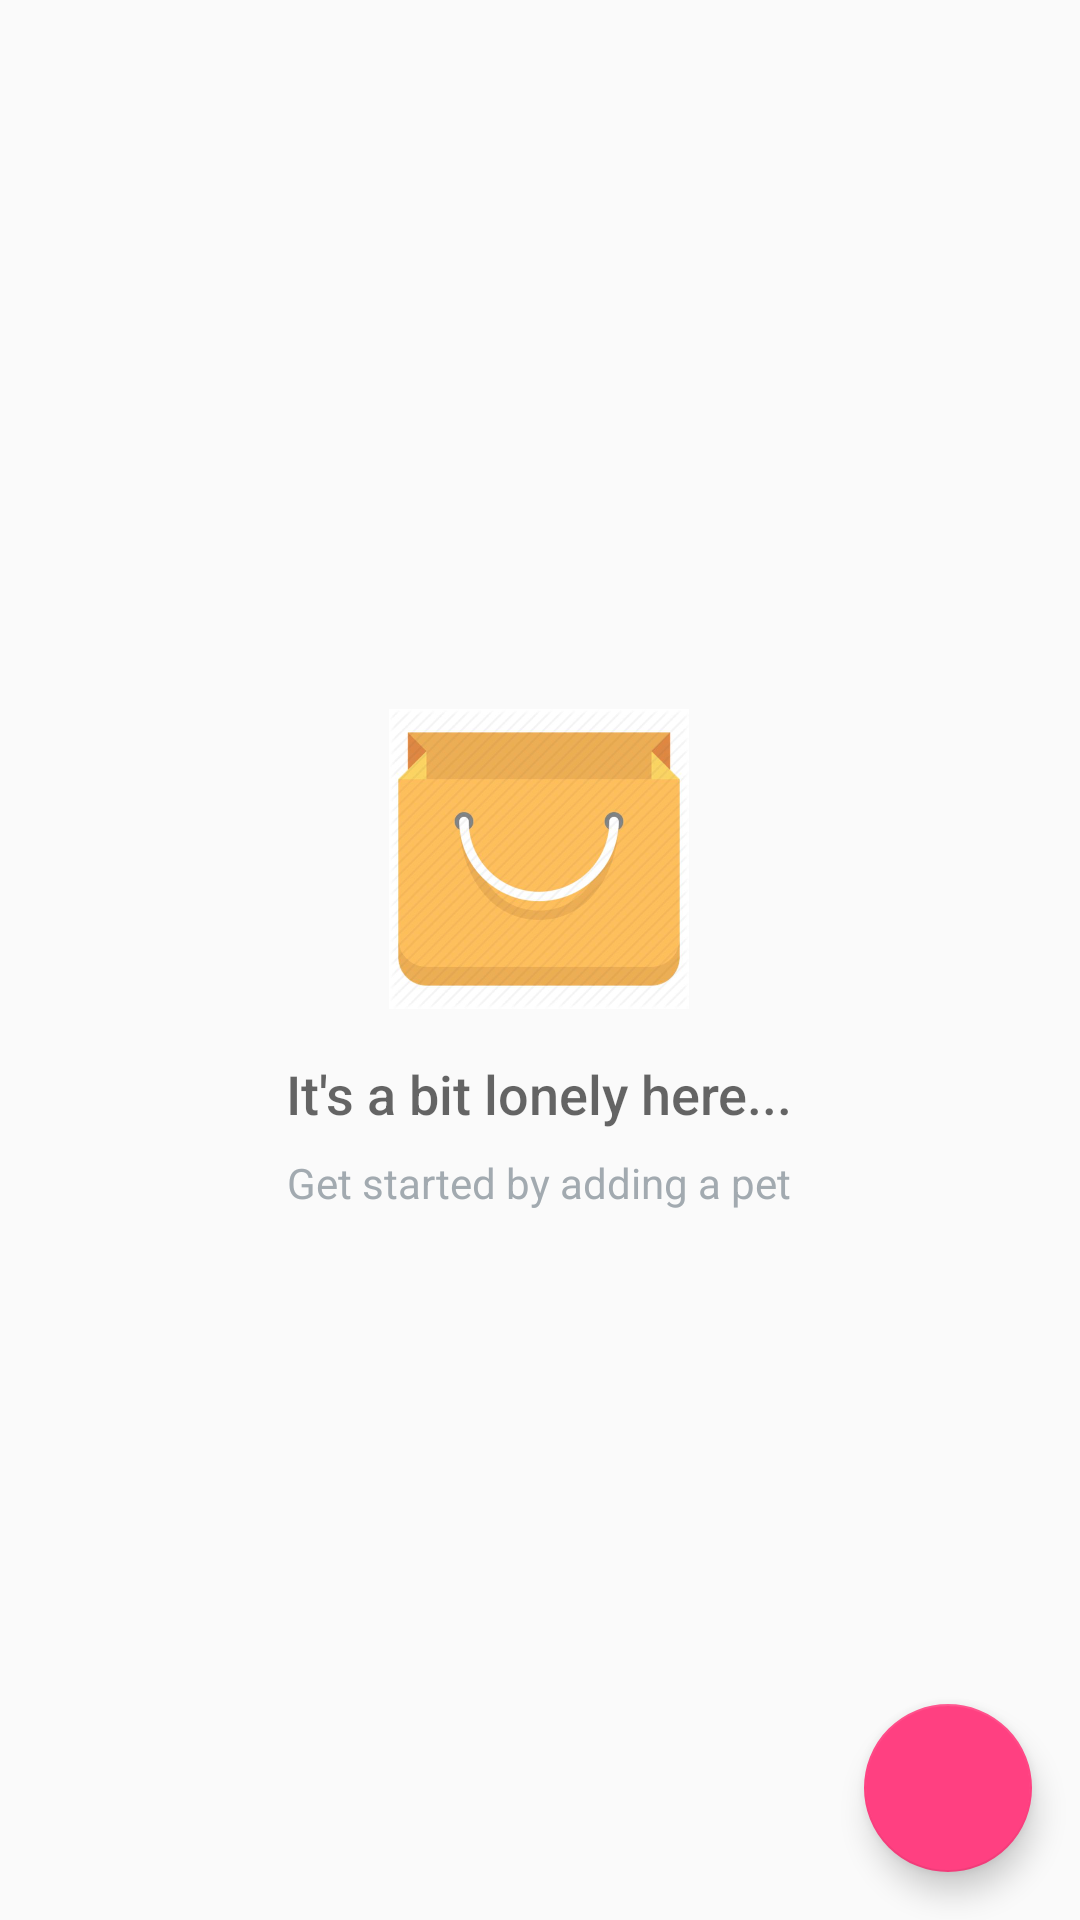

Screen size 1080 × 1920. Icon name, then its center in pixels as (x,y):
store: (539,859)
